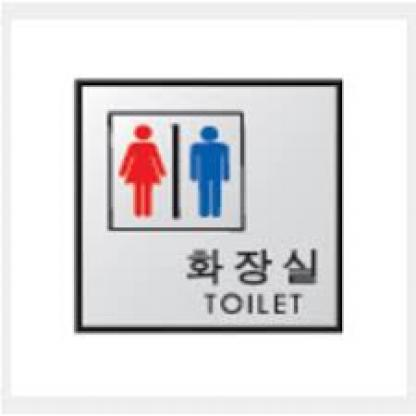toilet: (118, 120, 235, 218)
